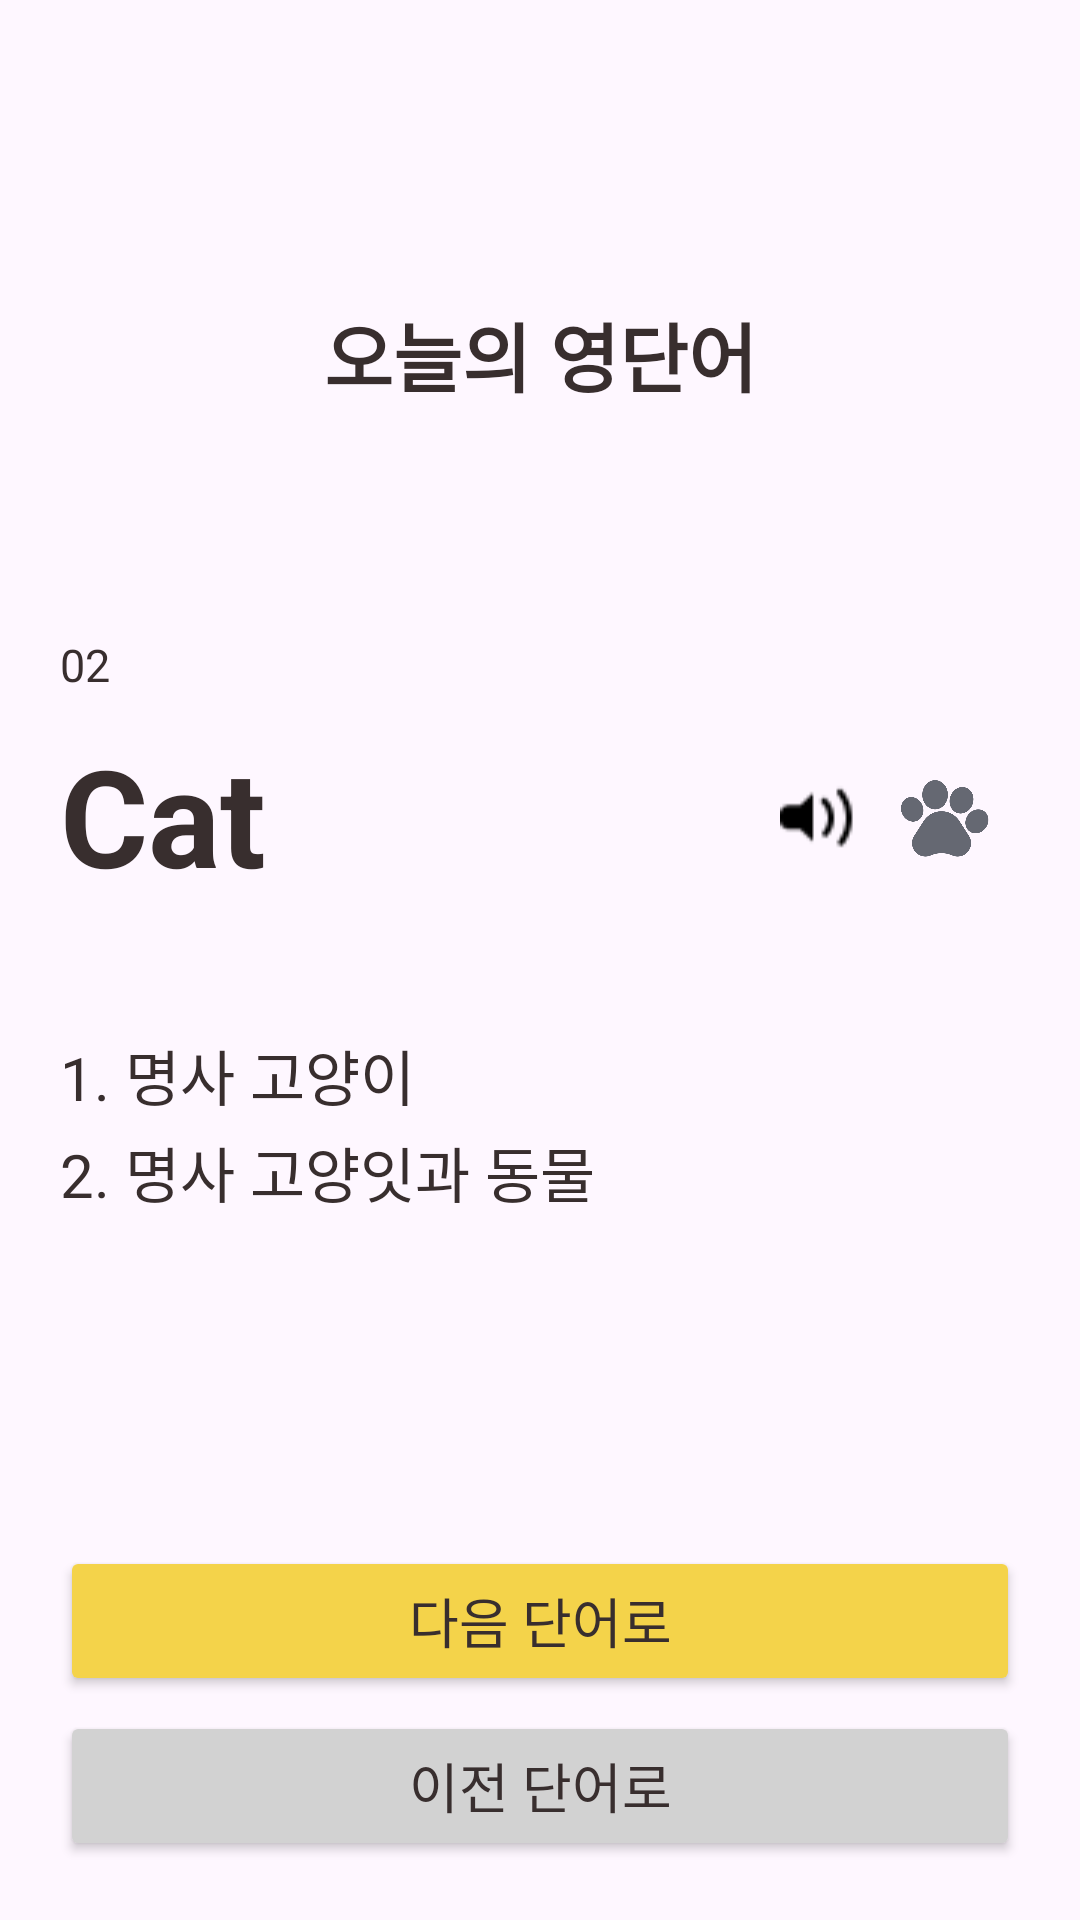

Named icons in this screenshot (1080 x 1920) and their bounding boxes, rect(x1, y1, x2, y2):
voice: rect(780, 788, 853, 848)
